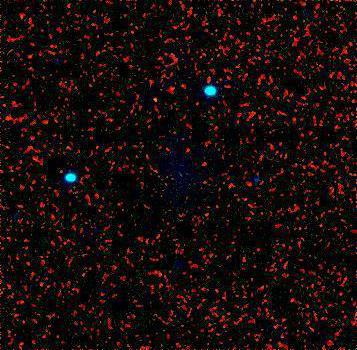star: (139, 86, 169, 116)
